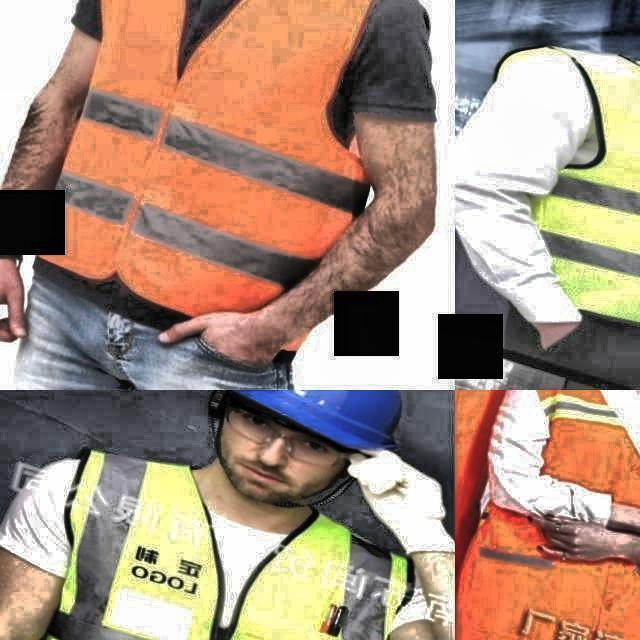safety_jacket: (13, 0, 419, 374), (16, 460, 429, 640), (459, 390, 640, 640), (524, 51, 640, 370), (455, 390, 553, 618)
